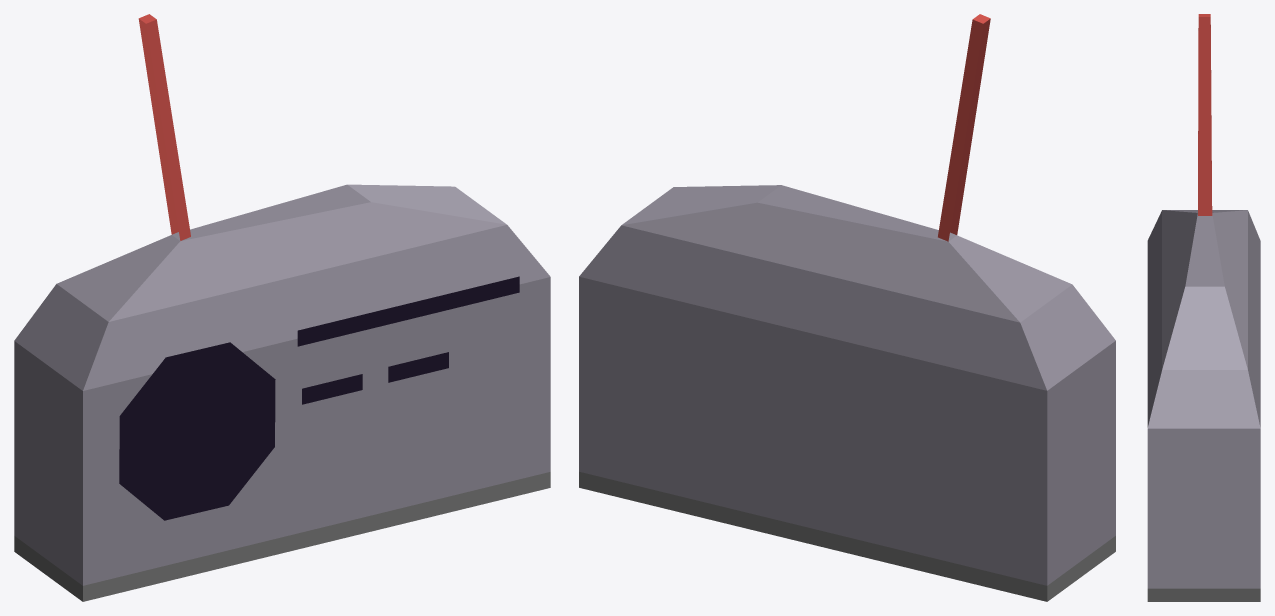
The model's file is radio.dae.
The picture shows the model from 3 angles, left to right: view 1: azimuth 30°, elevation 25°; view 2: azimuth 150°, elevation 25°; view 3: azimuth 270°, elevation 25°; orthographic projection. The views are drawn at different scales.
Visible parts, largest first — view 1: radio; view 2: radio; view 3: radio.
Part boxes in pixels (left/top/right/bottom): radio: left=14, top=14, right=550, bottom=601; radio: left=579, top=14, right=1115, bottom=601; radio: left=1147, top=14, right=1260, bottom=601.
Bounding box in the file's own units: 1.05 × 0.2753 × 1.15.
Materials: 1 (1 with a texture image).
